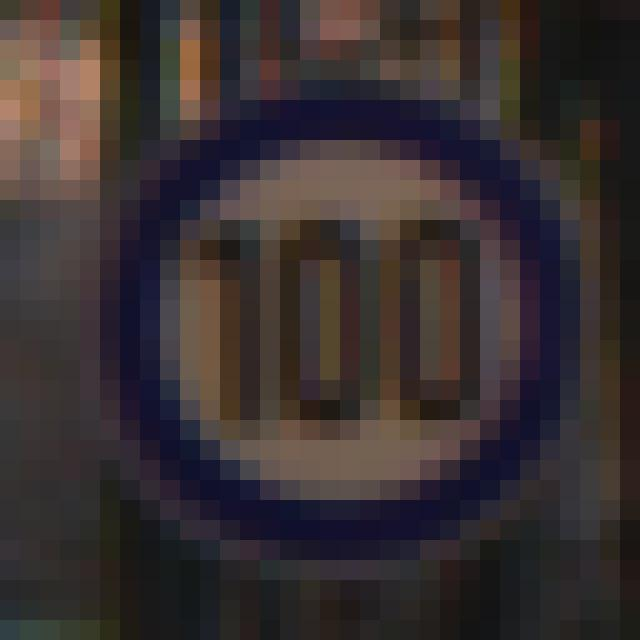SPEED LIMIT 100: (91, 79, 585, 563)
